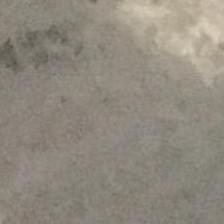Non_Crack: (24, 10, 224, 210)
